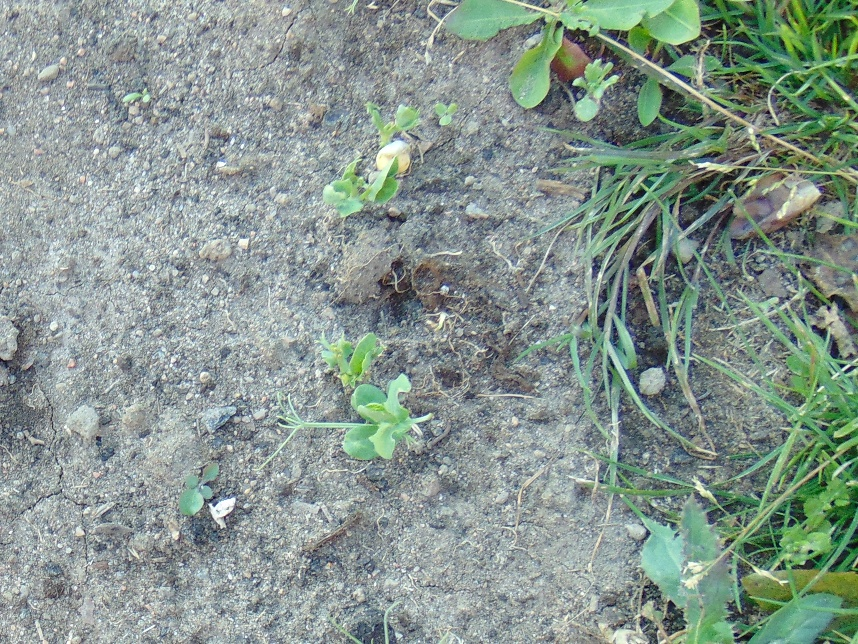crop: (284, 329, 433, 465), (319, 103, 425, 223)
weed: (604, 1, 858, 356), (612, 490, 858, 644), (739, 287, 858, 573), (443, 1, 697, 121)
